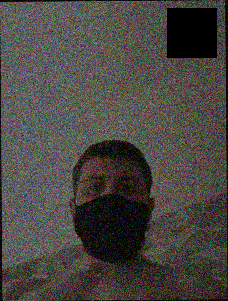with_mask: (73, 169, 151, 263)
